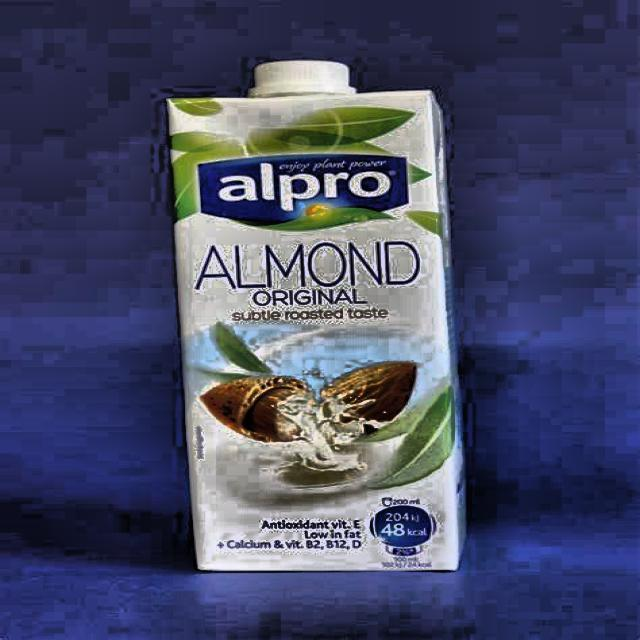cardboard: (165, 61, 468, 572)
